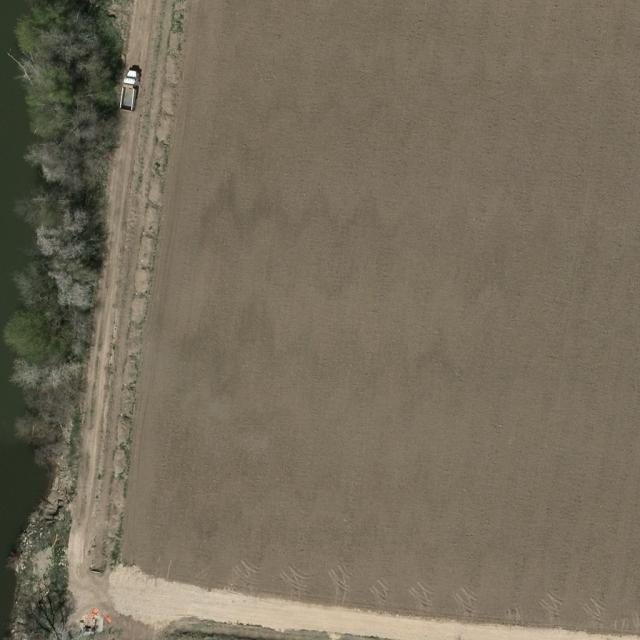vehicle: (120, 70, 142, 113)
